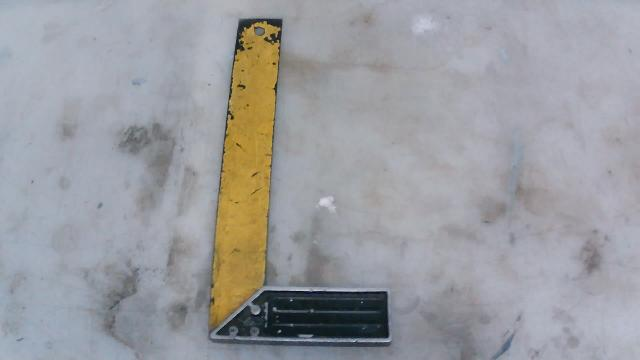penggaris_siku: (189, 5, 398, 356)
